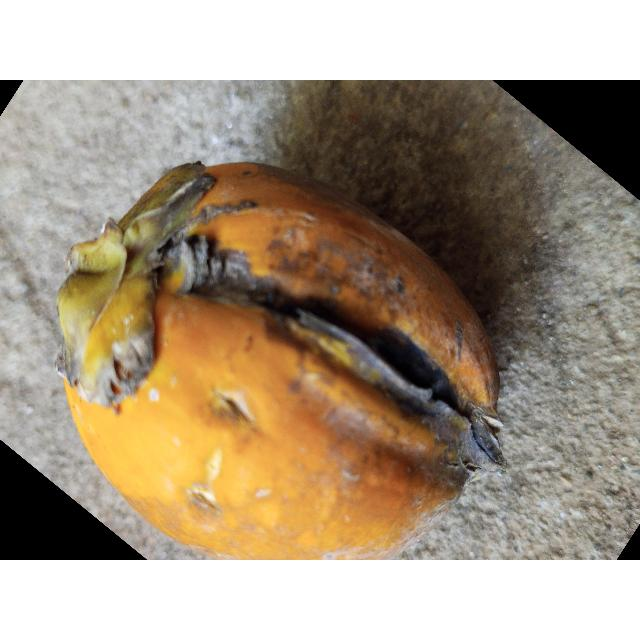damaged: (57, 163, 504, 560)
